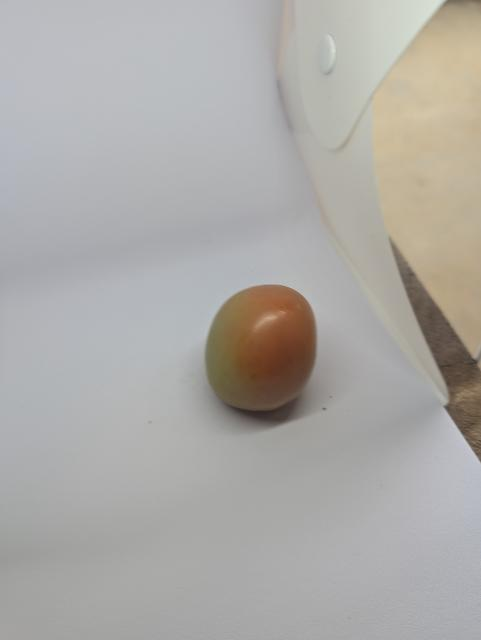turning: (202, 274, 329, 422)
